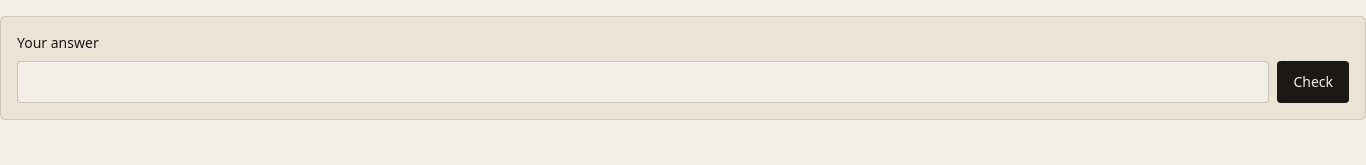
Scenario: widgets › shows try again then success
Type "1" into the field labelled "Your answer".
click(643, 82); type("1")  # box x1=17 y1=61 x2=1269 y2=103
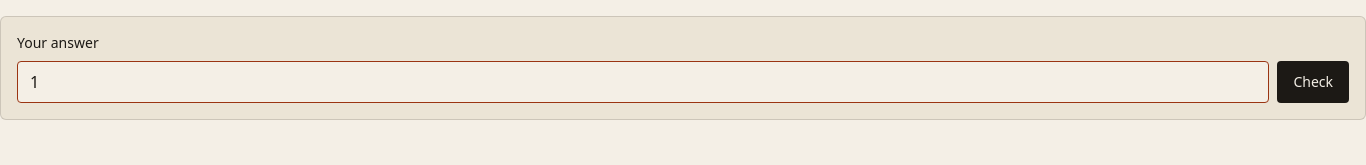
Click the button "Check".
click(1313, 82)  # box x1=1277 y1=61 x2=1349 y2=103
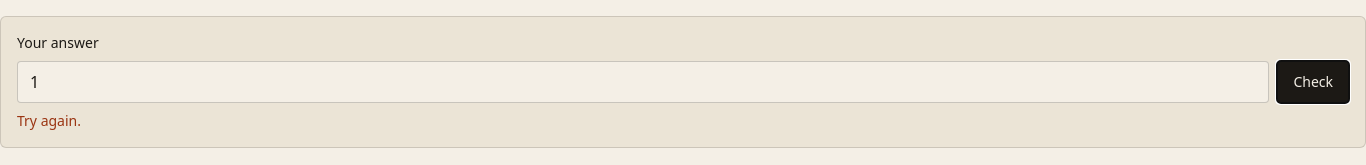
Expected: the text "Try again." is shown, x1=17 y1=111 x2=81 y2=130
Replace the text in the field labelled "Your answer" with "4" at (643,82), box x1=17 y1=61 x2=1269 y2=103
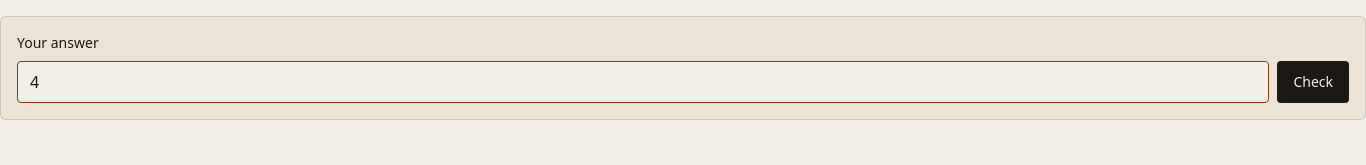
Click the button "Check".
click(1313, 82)  # box x1=1277 y1=61 x2=1349 y2=103
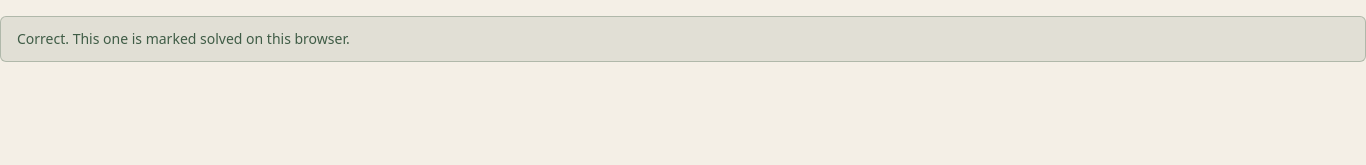
Expected: the text "Correct. This one is marked solved on this browser." is shown, x1=0 y1=16 x2=1365 y2=62
